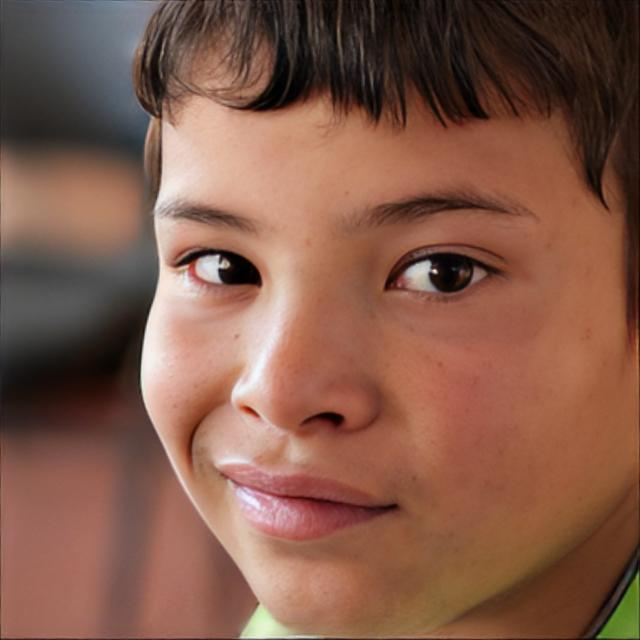content: (137, 0, 639, 640)
